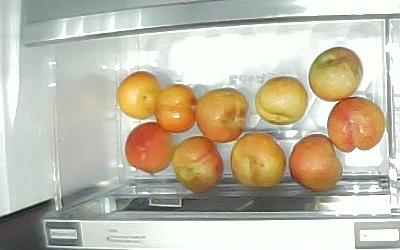prune: (290, 134, 344, 192), (231, 133, 286, 189), (328, 98, 385, 152), (309, 47, 364, 101), (171, 137, 223, 193), (196, 89, 249, 143), (125, 122, 174, 175), (256, 76, 308, 124), (154, 85, 196, 134), (118, 72, 159, 120)
